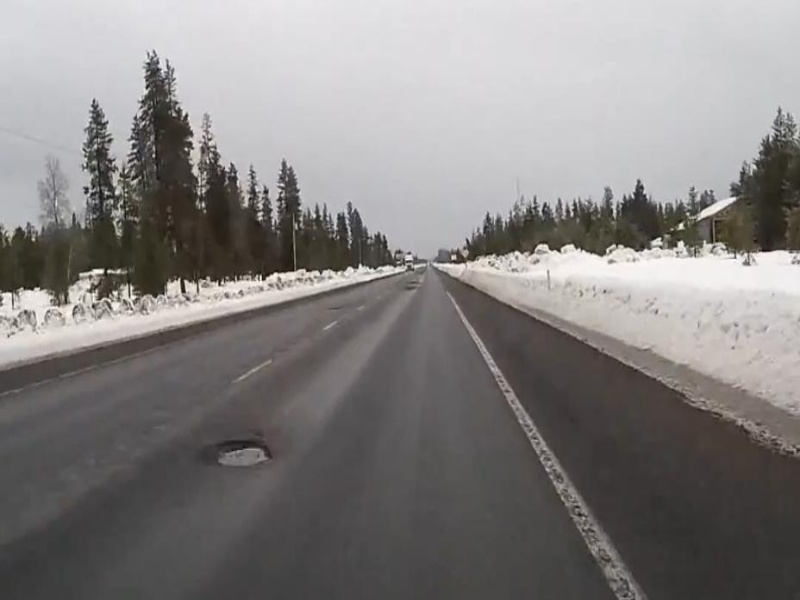pothole: (205, 437, 276, 472)
